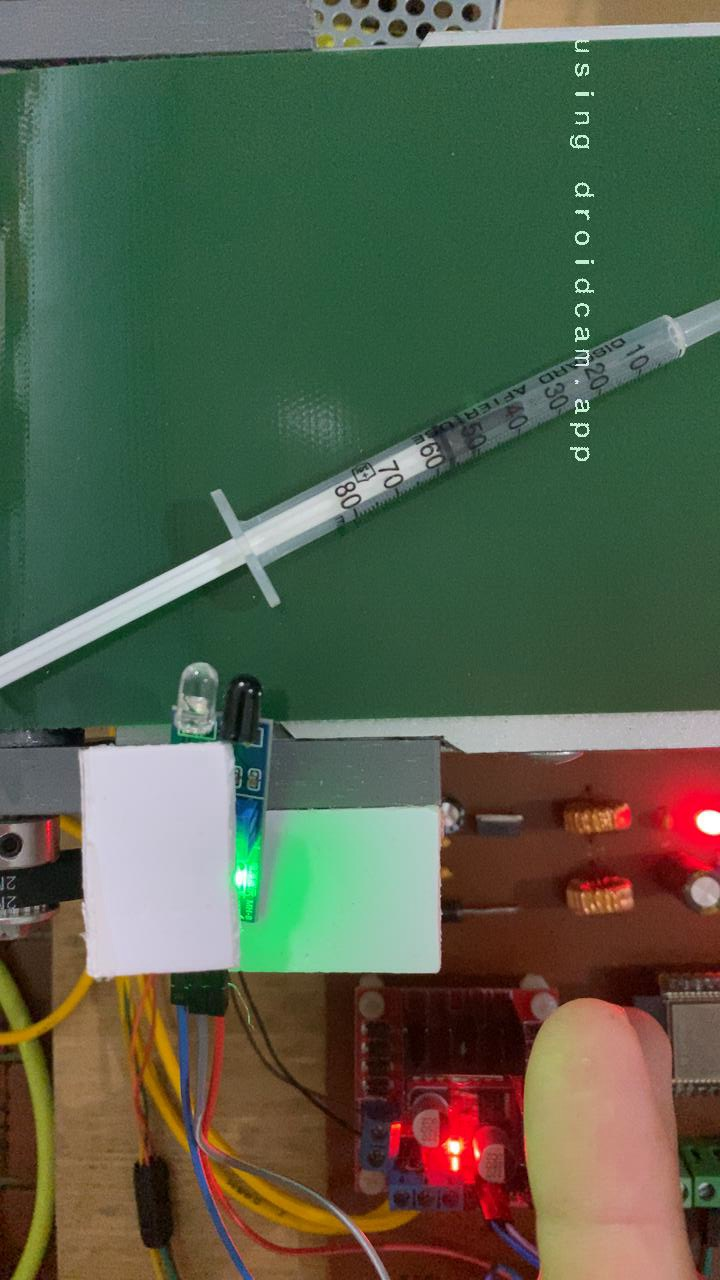syringe: (0, 417, 489, 696)
